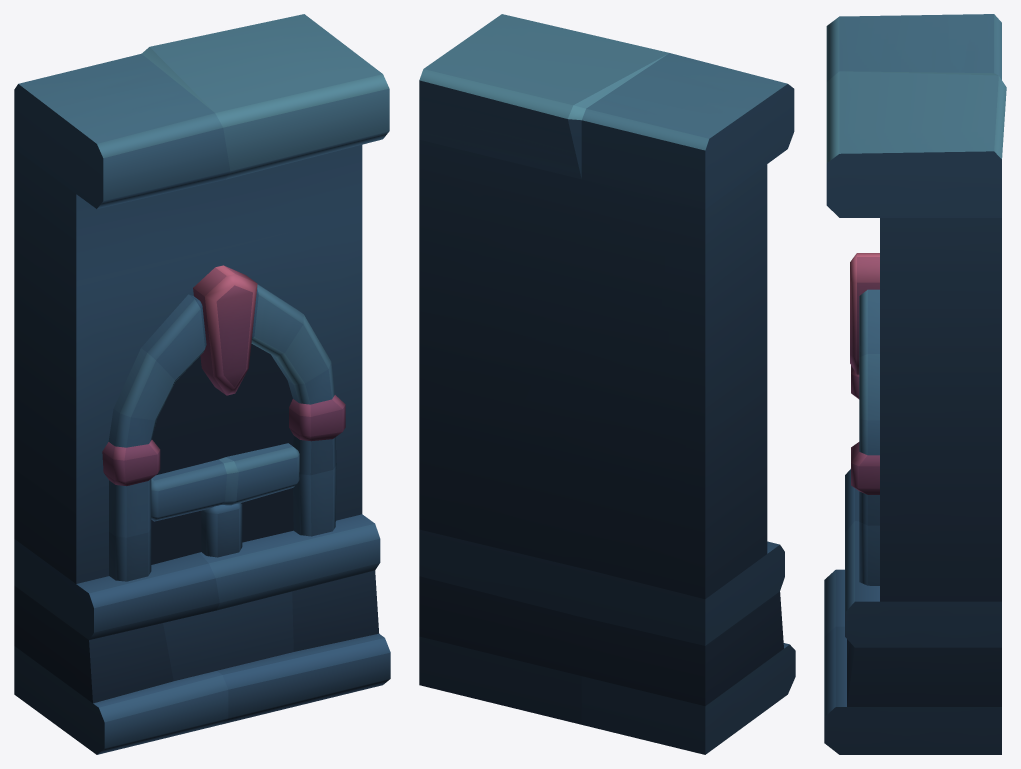
Rendered from wall_element_tileable_deco2_2meters.fbx.
3 views of the same model, side by side, from view 1: azimuth 30°, elevation 25°; view 2: azimuth 150°, elevation 25°; view 3: azimuth 270°, elevation 25° (orthographic).
Visible parts, largest first — view 1: wall_element_tileable_deco2_2meters; view 2: wall_element_tileable_deco2_2meters; view 3: wall_element_tileable_deco2_2meters.
Boxes of the visible parts, x1,y1,x2,y2 form: wall_element_tileable_deco2_2meters: [14, 14, 390, 754]; wall_element_tileable_deco2_2meters: [419, 14, 795, 754]; wall_element_tileable_deco2_2meters: [824, 14, 1006, 754].
Bounding box in the file's own units: 200 × 412 × 112.
